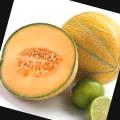Melon Ripe: (0, 15, 83, 110)
